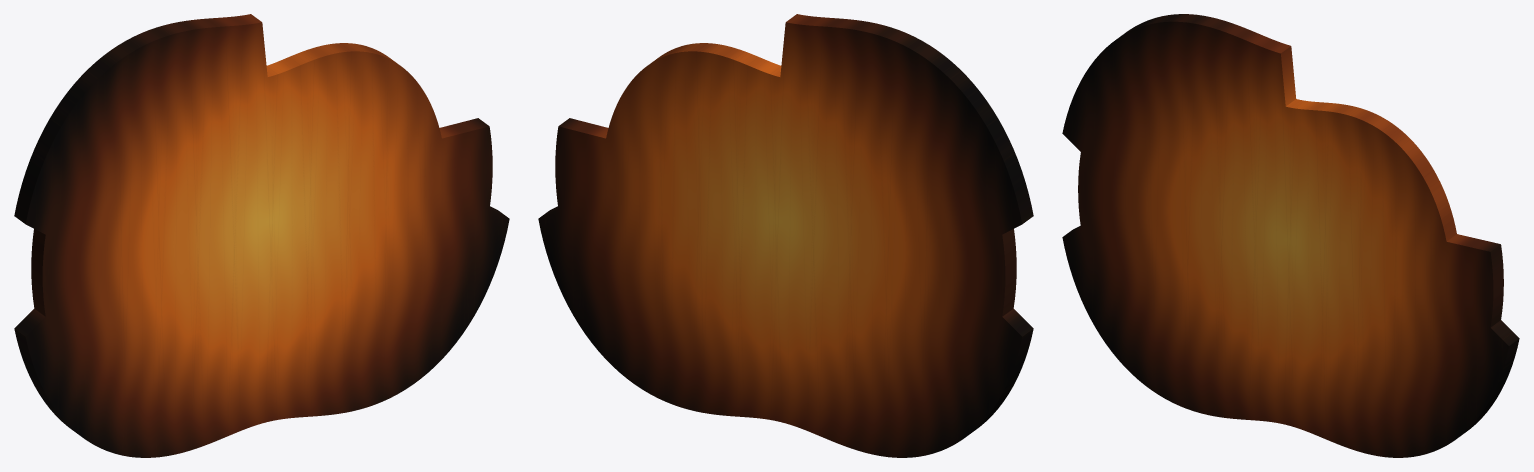
Rendered from gretsch_style_orange_sunburst.glb.
3 renders of one model, left to right at view 1: azimuth 30°, elevation 25°; view 2: azimuth 150°, elevation 25°; view 3: azimuth 330°, elevation 25°, orthographic. The views are drawn at different scales.
Parts seen in each view (by area): view 1: BODY; view 2: BODY; view 3: BODY.
Boxes of the visible parts, bbox=[...] form: BODY: bbox=[14, 14, 509, 457]; BODY: bbox=[538, 14, 1033, 457]; BODY: bbox=[1062, 14, 1519, 457].
Bounding box in the file's own units: 2.95 × 2.45 × 0.12.
1 material, 1 textured.
